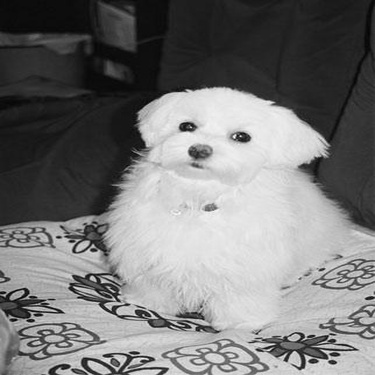dog: (100, 81, 354, 335)
